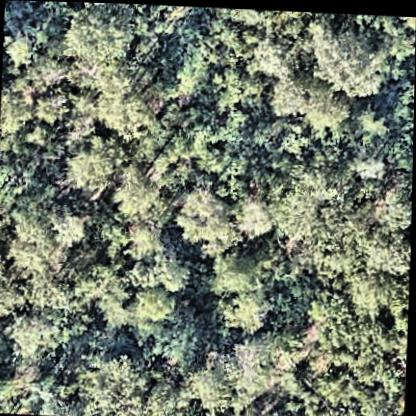tree-top: (276, 172, 368, 264), (309, 291, 397, 378), (313, 23, 384, 97), (77, 354, 156, 416), (93, 65, 161, 135), (60, 4, 131, 67), (177, 180, 237, 249), (60, 134, 124, 196), (2, 307, 73, 362), (151, 301, 208, 367), (6, 211, 61, 279), (343, 263, 411, 317), (201, 60, 268, 113), (107, 160, 165, 221), (183, 354, 239, 414), (203, 242, 261, 298), (360, 220, 412, 276), (224, 335, 274, 393), (219, 286, 272, 334), (92, 276, 139, 326), (305, 380, 370, 416), (46, 201, 92, 251), (31, 81, 75, 133), (244, 29, 293, 75), (125, 3, 191, 37), (349, 94, 392, 144), (232, 189, 278, 235), (264, 69, 312, 113), (118, 218, 167, 261), (374, 176, 413, 230), (0, 77, 34, 136), (345, 142, 391, 184), (147, 246, 194, 286), (132, 282, 176, 322), (1, 24, 39, 66), (0, 239, 19, 320), (215, 6, 281, 26)
